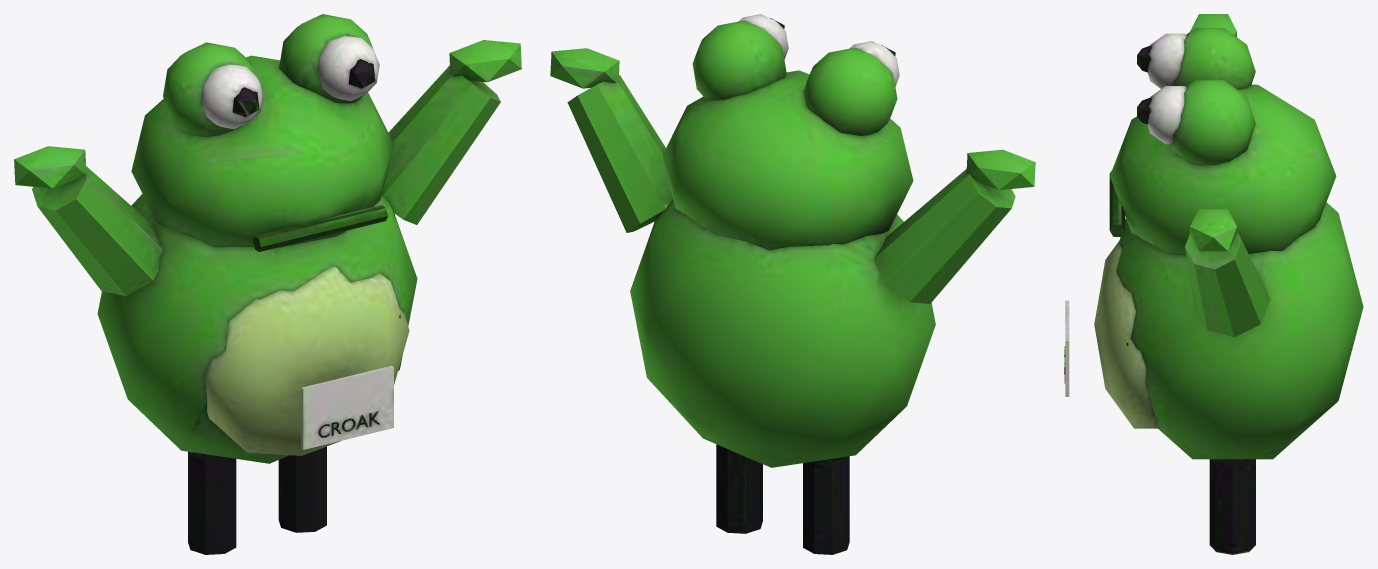
File: rana_hinchable.glb
3 views of the same model, side by side, from view 1: azimuth 30°, elevation 25°; view 2: azimuth 150°, elevation 25°; view 3: azimuth 270°, elevation 25° (orthographic). The views are drawn at different scales.
Visible parts, largest first — view 1: rana_hinchable; view 2: rana_hinchable; view 3: rana_hinchable.
Boxes of the visible parts, box(x1,y1,x2,y2) form: rana_hinchable: box(14, 14, 521, 554); rana_hinchable: box(550, 14, 1035, 554); rana_hinchable: box(1064, 14, 1363, 554).
Size of the model in its own units: 2.79 by 2.69 by 1.56.
Materials: 1 (1 with a texture image).
